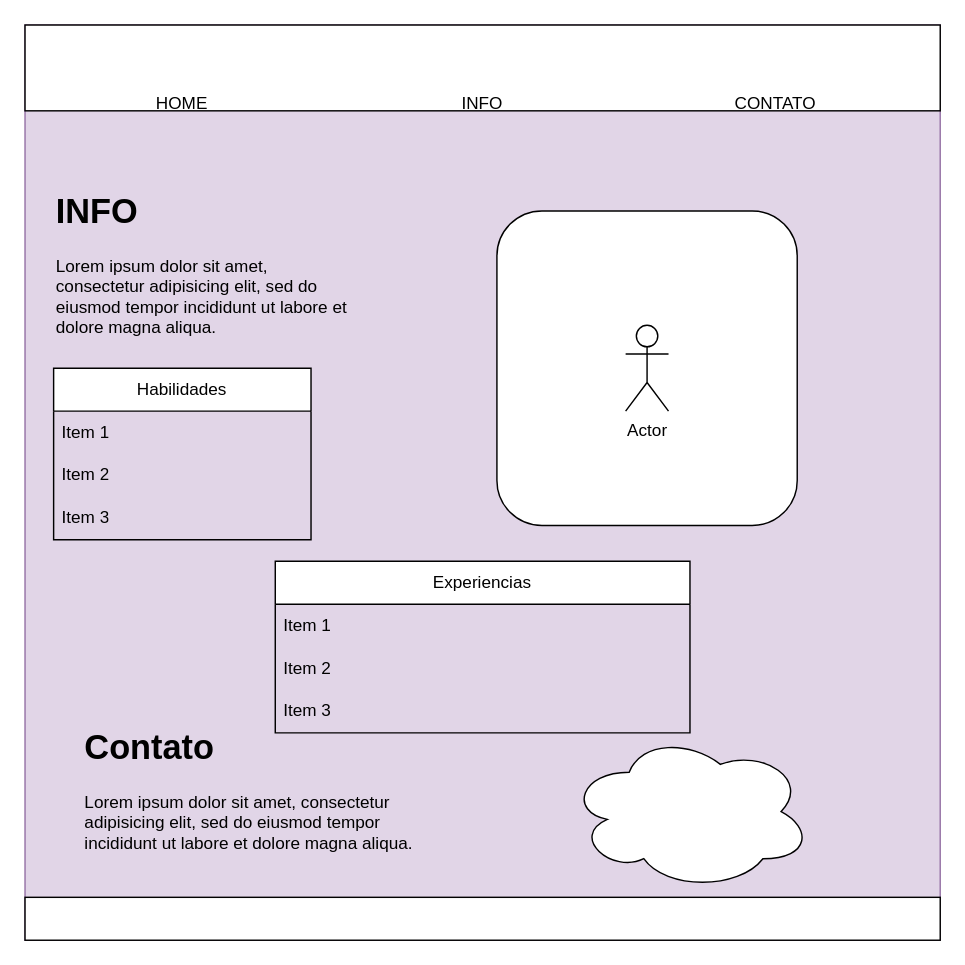
Some shapes in this 965 by 965 pixel diagram are drawn without their labels. The shapes that lost their labels are listed below. From the top down, each one's box as (x1, y1, x2, y2) in pixels, then its label:
(24, 24, 940, 111): Currículo
(24, 896, 940, 940): Redes Sociais
